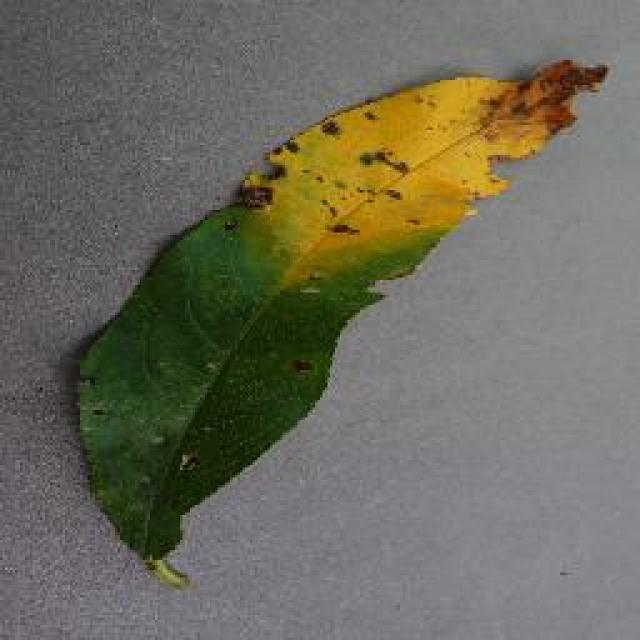Peach_Bacterial_Spot: (263, 36, 567, 286)
